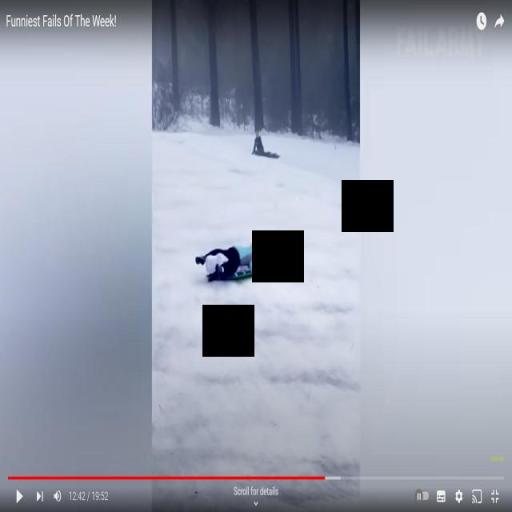Fall: (194, 238, 260, 287), (250, 128, 273, 159)
